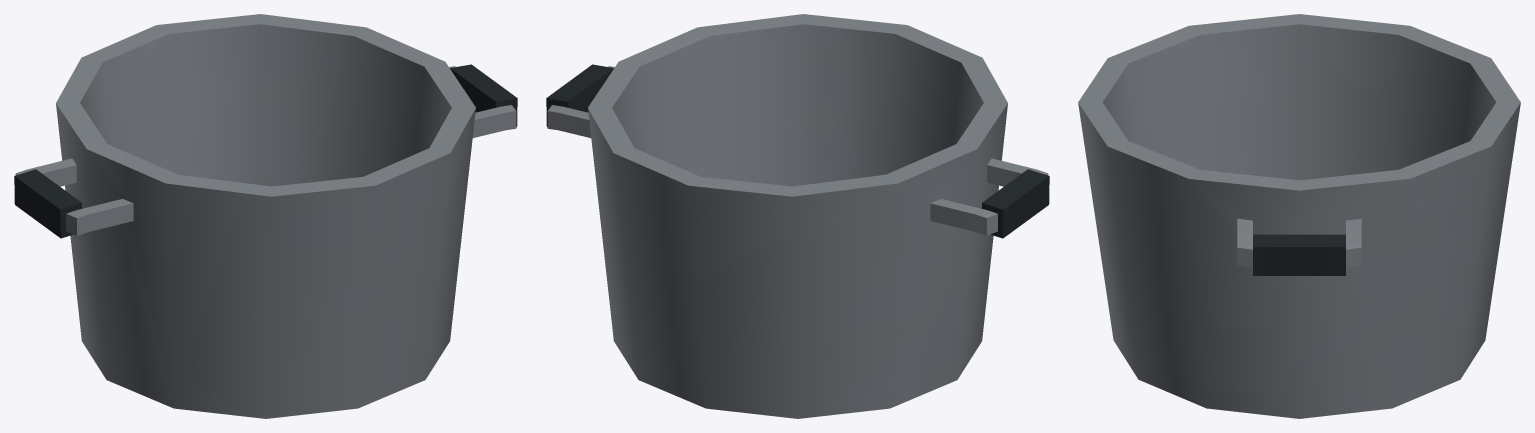
The model's file is Dutch_Oven.fbx.
3 views of the same model, side by side, from view 1: azimuth 30°, elevation 25°; view 2: azimuth 150°, elevation 25°; view 3: azimuth 270°, elevation 25° (orthographic).
Parts seen in each view (by area): view 1: Dutch_Oven; view 2: Dutch_Oven; view 3: Dutch_Oven.
Part boxes in pixels (left/top/right/bottom): Dutch_Oven: left=14, top=14, right=517, bottom=418; Dutch_Oven: left=546, top=14, right=1049, bottom=418; Dutch_Oven: left=1078, top=14, right=1520, bottom=418.
Bounding box in the file's own units: 0.4761 × 0.2346 × 0.3955.
